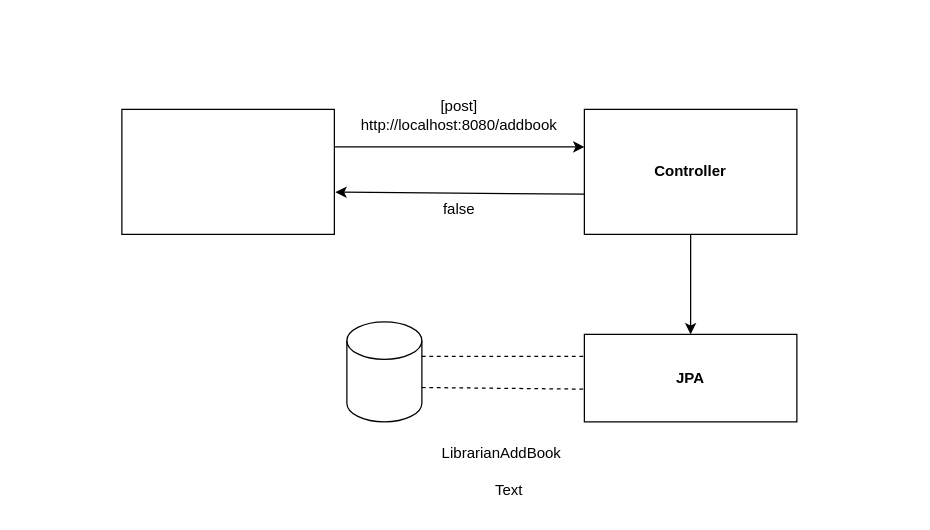
Some shapes in this 930 by 530 pixel diagram are drawn without their labels. The shapes that lost their labels are listed below. From the top down, each one's box as (x1, y1, x2, y2) in pixels, then its label:
(121, 108, 334, 234): /AddBook
(346, 321, 422, 422): DB
